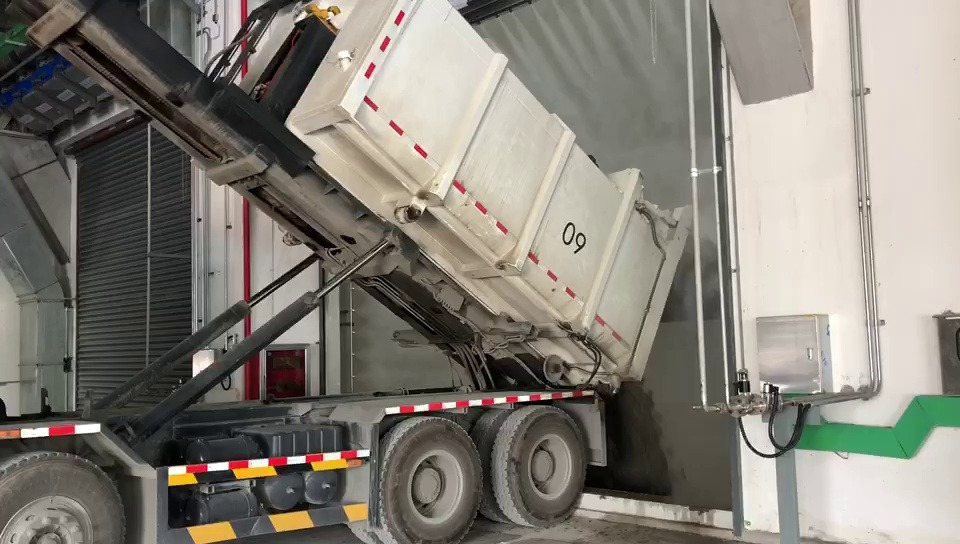truck: (0, 0, 698, 539)
